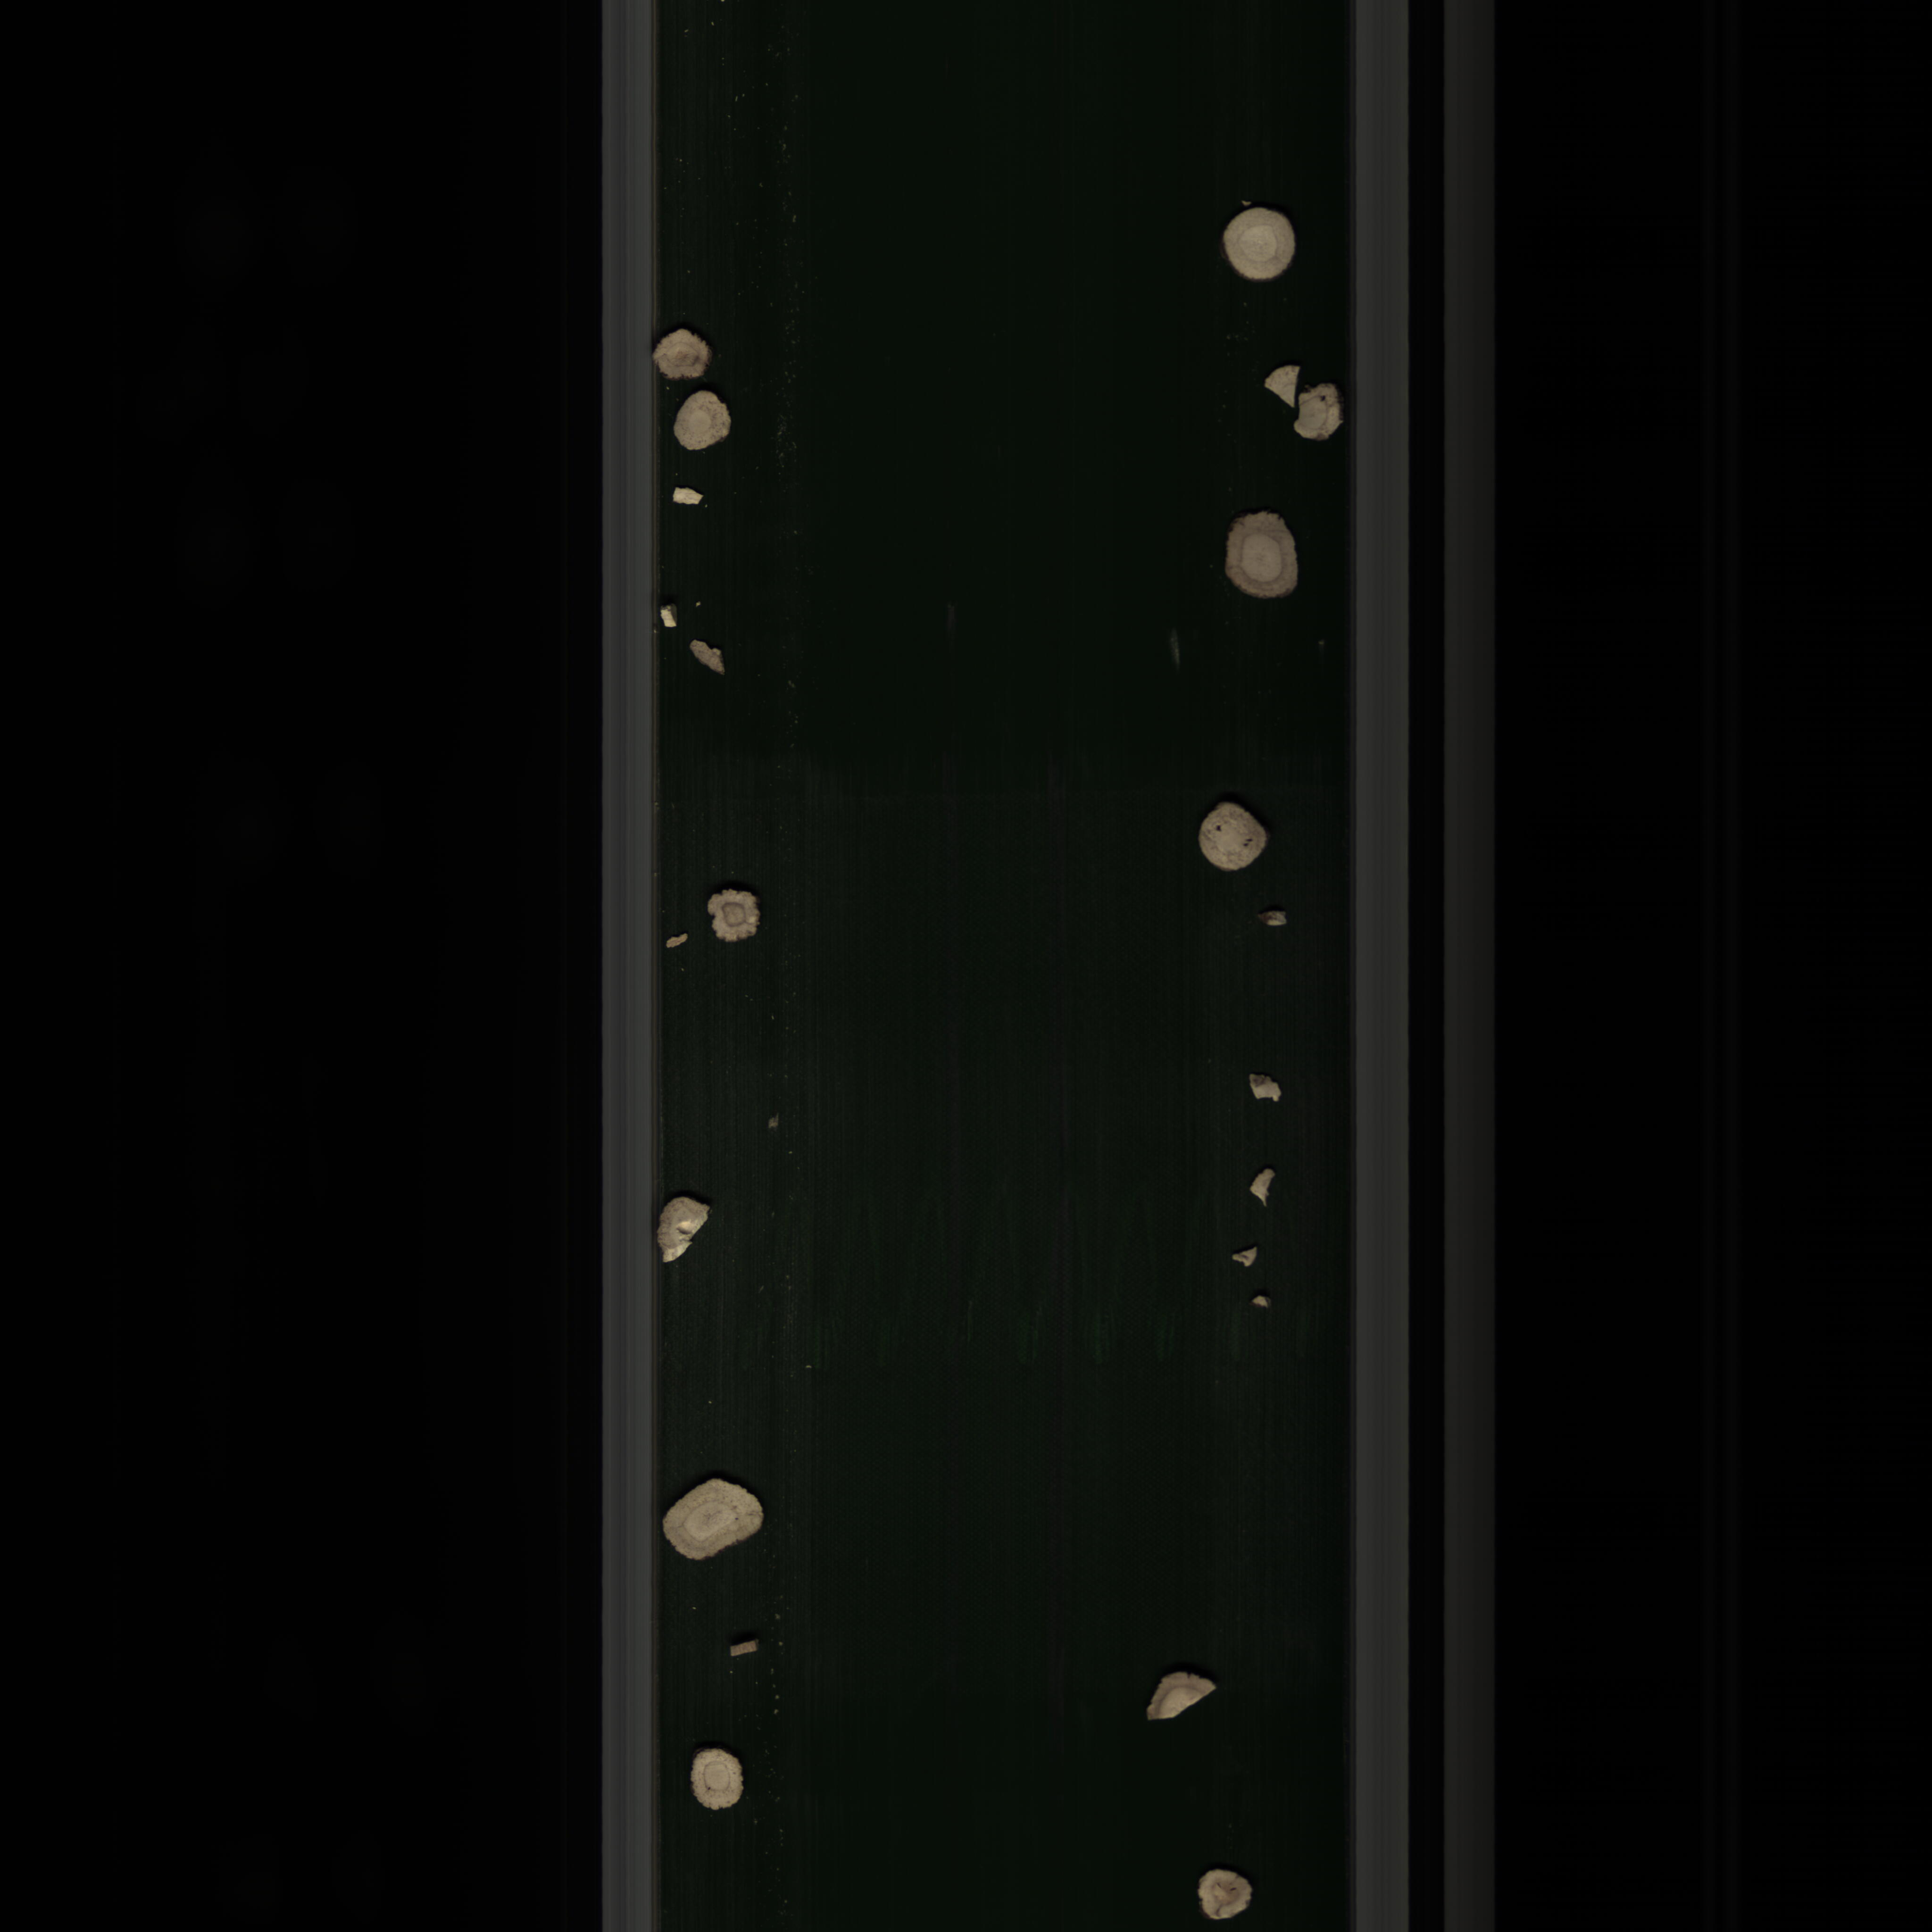debris: (1129, 1668, 1230, 1737), (648, 1187, 717, 1263), (1292, 382, 1350, 442), (678, 633, 732, 686), (1226, 1063, 1284, 1111), (1240, 1157, 1286, 1212), (1261, 354, 1307, 403), (669, 479, 709, 522), (1224, 1242, 1263, 1272)
distortion: (692, 886, 780, 952)
hole: (1187, 791, 1270, 886)
moldy: (1175, 1859, 1261, 1921)
